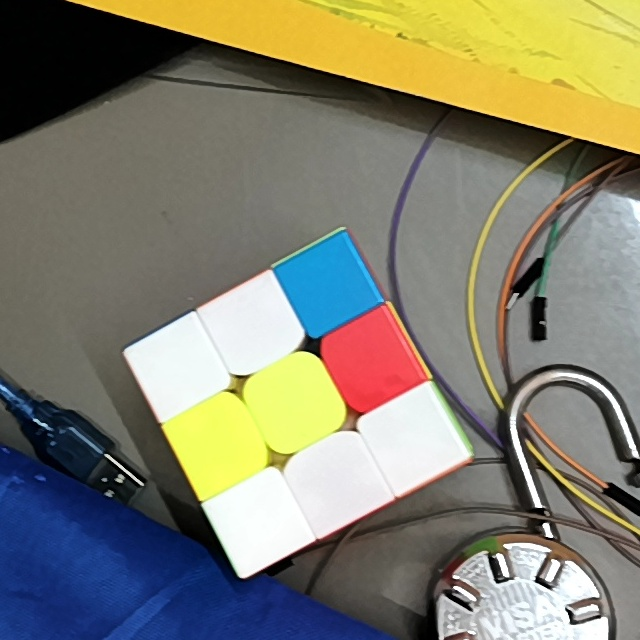tile: (226, 490, 285, 553), (307, 450, 366, 512), (189, 413, 248, 475), (344, 330, 400, 391), (267, 373, 325, 430), (382, 410, 438, 468), (298, 257, 354, 315), (151, 336, 205, 396), (225, 296, 282, 352)
